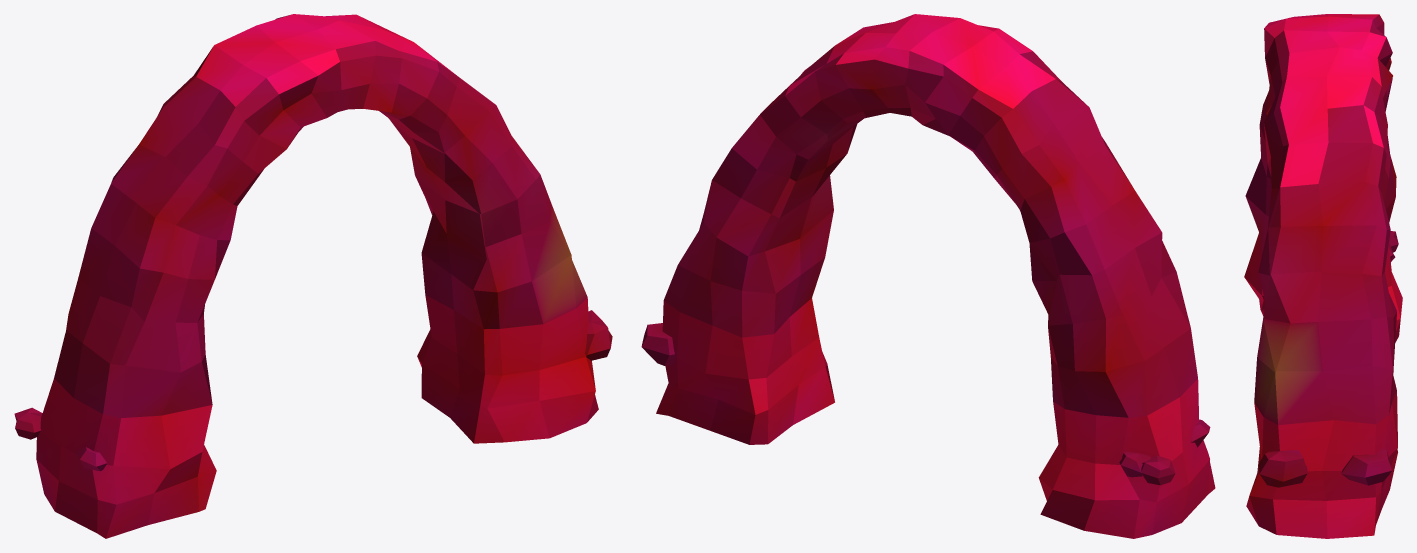
File: Rock_Arch_01.glb
3 renders of one model, left to right at view 1: azimuth 30°, elevation 25°; view 2: azimuth 150°, elevation 25°; view 3: azimuth 270°, elevation 25°, orthographic. The views are drawn at different scales.
Parts seen in each view (by area): view 1: Rock_Arch_01; view 2: Rock_Arch_01; view 3: Rock_Arch_01.
Part boxes in pixels (bbox=[...]): Rock_Arch_01: bbox=[14, 14, 612, 538]; Rock_Arch_01: bbox=[641, 14, 1215, 538]; Rock_Arch_01: bbox=[1244, 14, 1402, 538].
Size of the model in its own units: 22.66 by 16.9 by 6.2.
